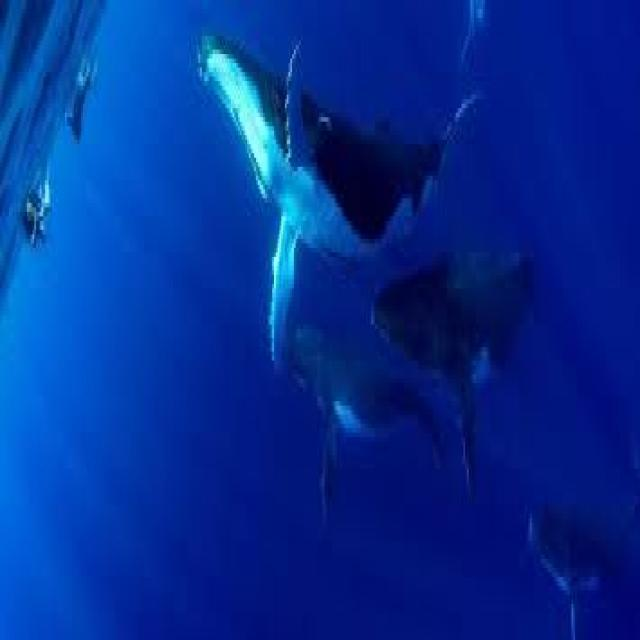blue_whale: (198, 41, 472, 366), (364, 234, 570, 410)
